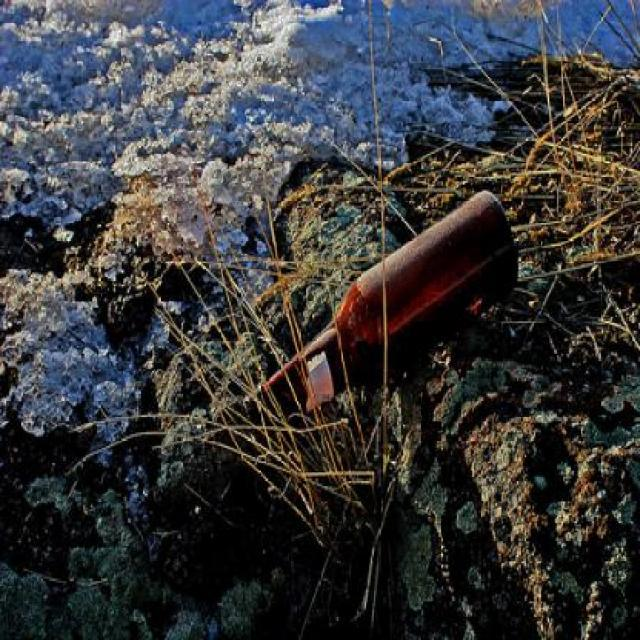garbage: (163, 175, 542, 430)
